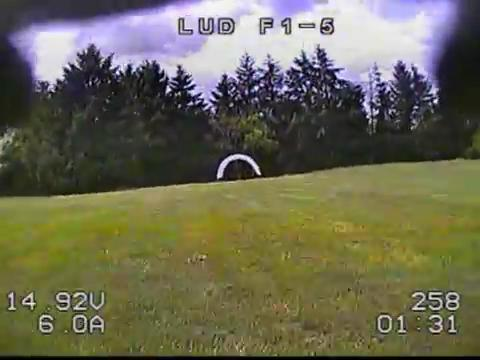gate: (216, 153, 261, 180)
